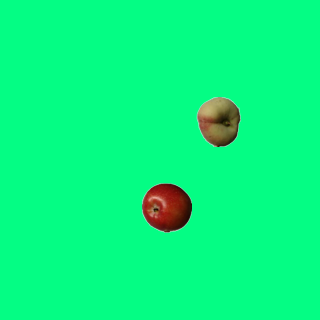Apple Braeburn: (141, 182, 191, 232)
Peach Flat: (193, 96, 243, 146)
